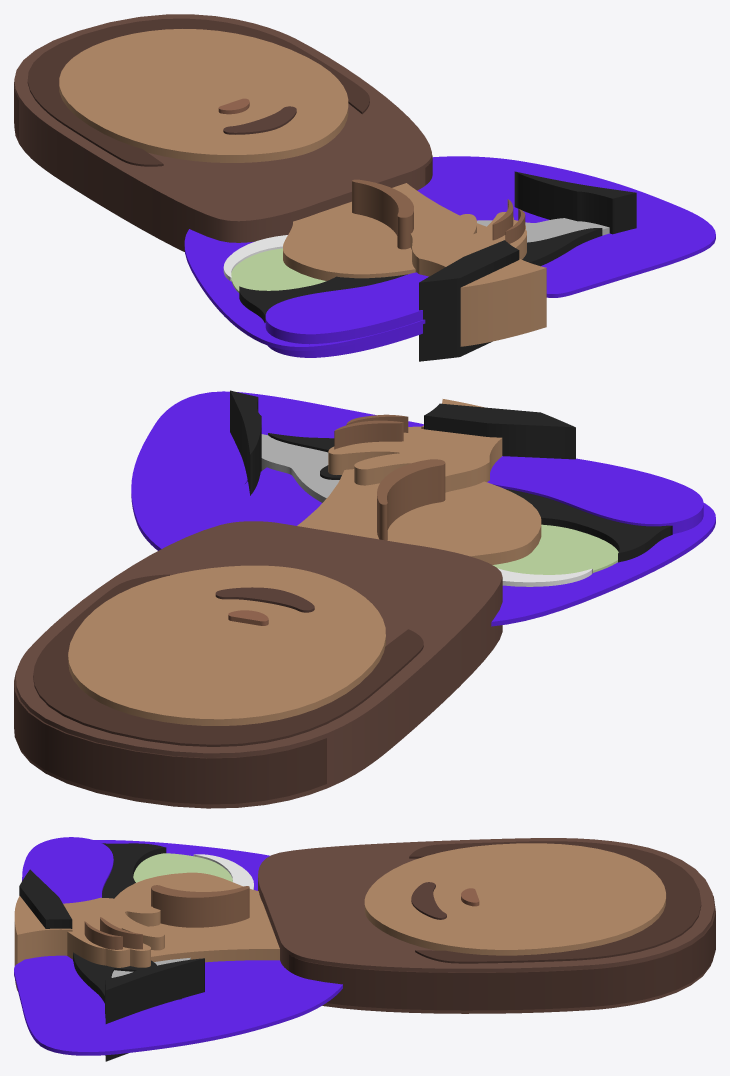
Rendered from emoji_u1f931_1f3fd.glb.
3 views of the same model, one above another, from view 1: azimuth 30°, elevation 25°; view 2: azimuth 150°, elevation 25°; view 3: azimuth 270°, elevation 25° (orthographic). The views are drawn at different scales.
Visible parts, largest first — view 1: emoji_u1f931_1f3fd; view 2: emoji_u1f931_1f3fd; view 3: emoji_u1f931_1f3fd.
Boxes of the visible parts, x1,y1,x2,y2 form: emoji_u1f931_1f3fd: (14, 14, 715, 361); emoji_u1f931_1f3fd: (14, 390, 715, 808); emoji_u1f931_1f3fd: (14, 837, 715, 1061).
Bounding box in the file's own units: 0.0242 × 0.0046 × 0.0339.
